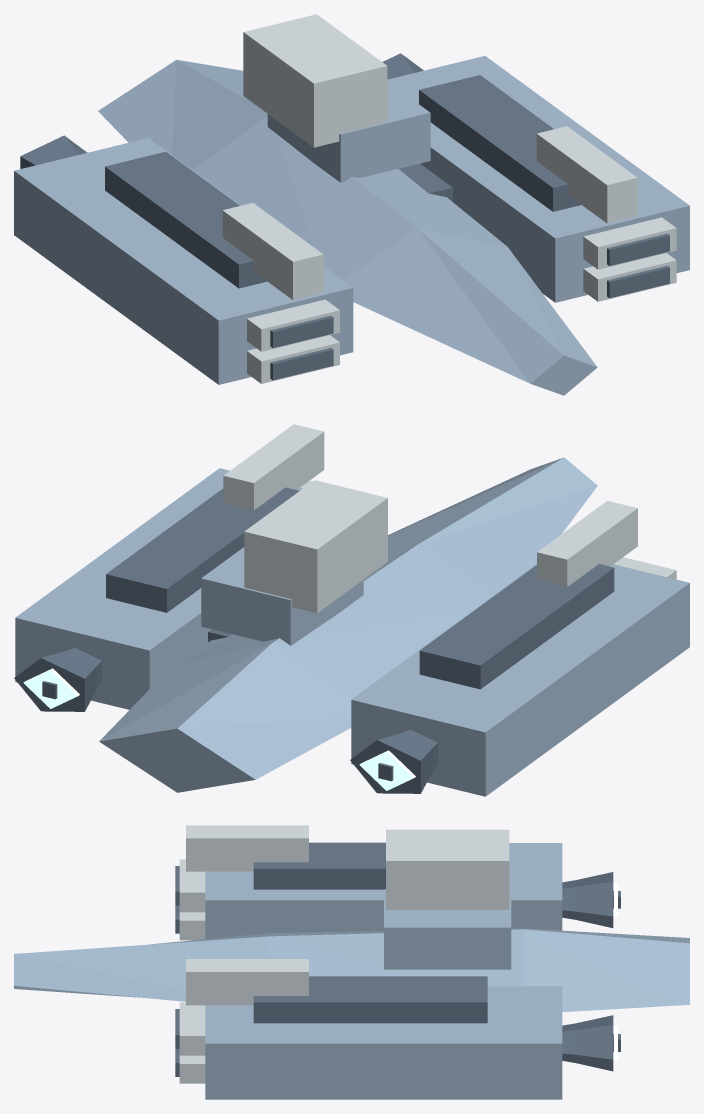
3 views of the same model, one above another, from view 1: azimuth 30°, elevation 25°; view 2: azimuth 150°, elevation 25°; view 3: azimuth 270°, elevation 25° (orthographic). The views are drawn at different scales.
Bounding box in the file's own units: 15.42 × 6.3 × 21.98.
